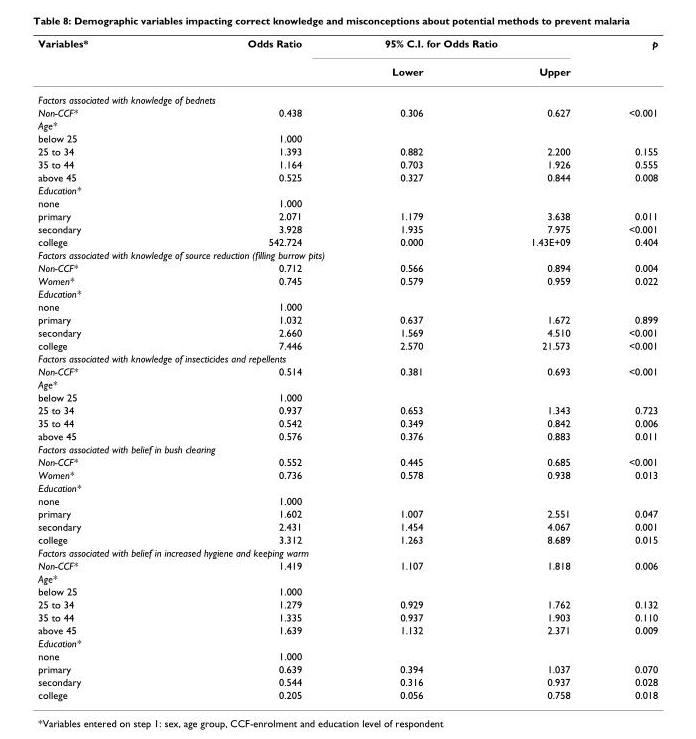table: (37, 36, 657, 700)
table column: (167, 36, 342, 700), (342, 36, 476, 700), (37, 36, 167, 700), (476, 36, 598, 700), (598, 36, 657, 700)
table column header: (37, 36, 657, 85)
table projected row header: (37, 85, 657, 105), (37, 118, 657, 131), (37, 183, 657, 196), (37, 286, 657, 299), (37, 351, 657, 364), (37, 377, 657, 390), (37, 442, 657, 455), (37, 545, 657, 558), (37, 571, 657, 584), (37, 636, 657, 649), (37, 248, 657, 260), (37, 481, 657, 493)
table row: (37, 56, 657, 85), (37, 36, 657, 56), (37, 85, 657, 105), (37, 105, 657, 118), (37, 118, 657, 131), (37, 131, 657, 144), (37, 144, 657, 157), (37, 157, 657, 170), (37, 170, 657, 183), (37, 183, 657, 196), (37, 196, 657, 209), (37, 209, 657, 222), (37, 222, 657, 235), (37, 235, 657, 248), (37, 260, 657, 273), (37, 273, 657, 286), (37, 286, 657, 299), (37, 299, 657, 312), (37, 312, 657, 325), (37, 325, 657, 338), (37, 338, 657, 351), (37, 351, 657, 364), (37, 364, 657, 377), (37, 377, 657, 390), (37, 390, 657, 403), (37, 403, 657, 416), (37, 416, 657, 429), (37, 429, 657, 442), (37, 442, 657, 455), (37, 455, 657, 468), (37, 468, 657, 481), (37, 493, 657, 506), (37, 506, 657, 519), (37, 519, 657, 532), (37, 532, 657, 545), (37, 545, 657, 558), (37, 558, 657, 571), (37, 571, 657, 584), (37, 584, 657, 597), (37, 597, 657, 610), (37, 610, 657, 623), (37, 623, 657, 636), (37, 636, 657, 649), (37, 649, 657, 662), (37, 662, 657, 675), (37, 675, 657, 688), (37, 248, 657, 260), (37, 481, 657, 493), (37, 688, 657, 700)
table spanning cell: (167, 36, 342, 85), (37, 36, 167, 85), (342, 36, 598, 56), (598, 36, 657, 85)
